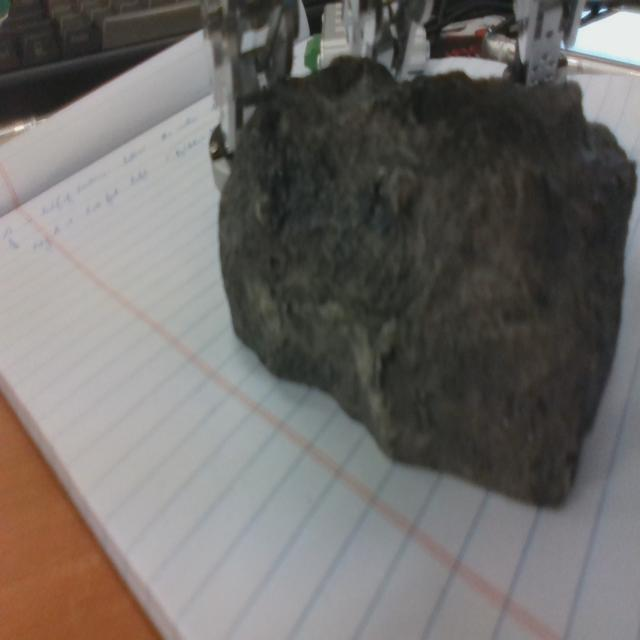stone: (218, 54, 638, 510)
